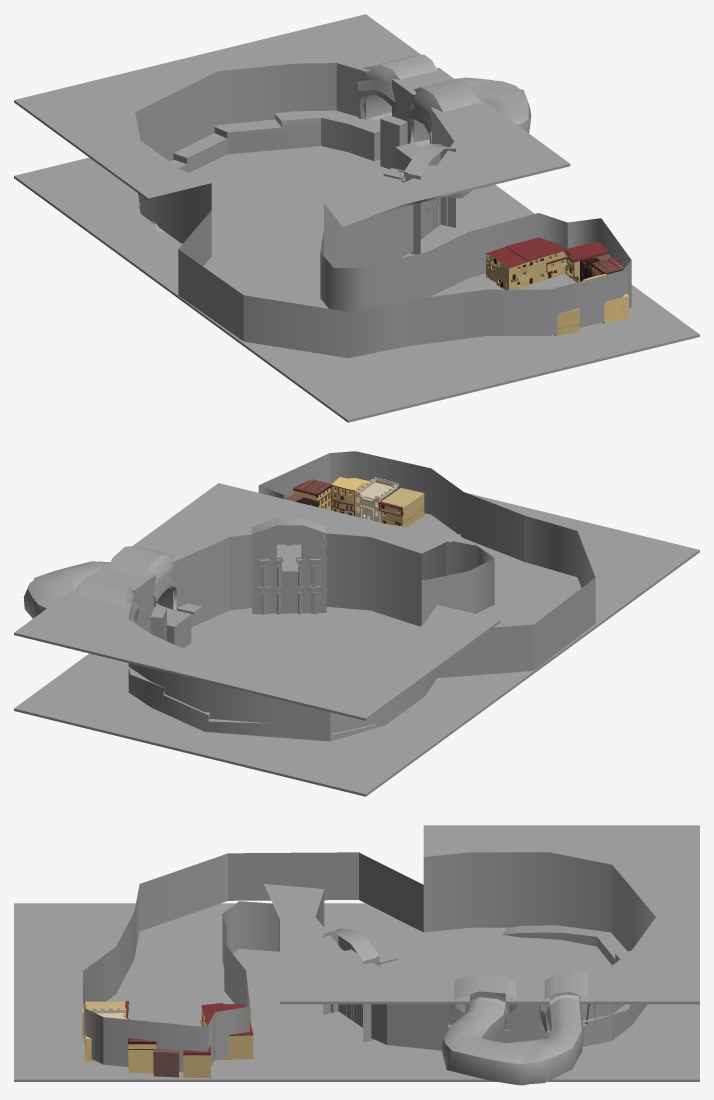
File: LevelTest.fbx
3 renders of one model, top to bottom at view 1: azimuth 30°, elevation 25°; view 2: azimuth 150°, elevation 25°; view 3: azimuth 270°, elevation 25°, orthographic. The views are drawn at different scales.
Visible parts, largest first — view 1: polySurface158, ground, tiers, Cave, BlockB, polySurface157, waterfal, BuildingB, BuildingD; view 2: polySurface158, ground, polySurface157, Cave, BuildingH, TheTwoSpoons, BuildingD, BuildingG; view 3: polySurface158, ground, Cave, tiers, polySurface157, BlockB, BuildingG, BuildingB, TearCollector, BuildingH.
Boxes of the visible parts, bbox=[...] form: polySurface158: bbox=[14, 14, 631, 358]; ground: bbox=[14, 146, 699, 422]; tiers: bbox=[135, 110, 380, 232]; Cave: bbox=[357, 54, 531, 148]; BlockB: bbox=[485, 237, 566, 289]; polySurface157: bbox=[383, 144, 472, 254]; waterfal: bbox=[380, 115, 407, 169]; BuildingB: bbox=[564, 242, 608, 282]; BuildingD: bbox=[582, 273, 628, 323]; polySurface158: bbox=[14, 451, 595, 741]; ground: bbox=[14, 493, 699, 796]; polySurface157: bbox=[252, 518, 327, 614]; Cave: bbox=[23, 546, 177, 623]; BuildingH: bbox=[378, 488, 424, 526]; TheTwoSpoons: bbox=[355, 477, 398, 522]; BuildingD: bbox=[331, 477, 369, 516]; BuildingG: bbox=[293, 479, 331, 510]; polySurface158: bbox=[83, 825, 699, 1072]; ground: bbox=[14, 903, 699, 1081]; Cave: bbox=[441, 970, 595, 1085]; tiers: bbox=[502, 925, 630, 1022]; polySurface157: bbox=[323, 928, 398, 1042]; BlockB: bbox=[199, 1003, 253, 1060]; BuildingG: bbox=[128, 1038, 156, 1073]; BuildingB: bbox=[183, 1045, 210, 1078]; TearCollector: bbox=[153, 1048, 179, 1077]; BuildingH: bbox=[82, 1001, 128, 1035].
Bounding box in the file's own units: 186 × 40.17 × 253.
